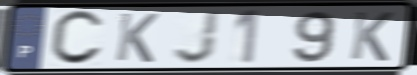1: (229, 8, 261, 67)
9: (289, 9, 339, 64)
C: (47, 8, 107, 68)
J: (170, 10, 223, 66)
K: (112, 11, 161, 65), (347, 10, 396, 64)
